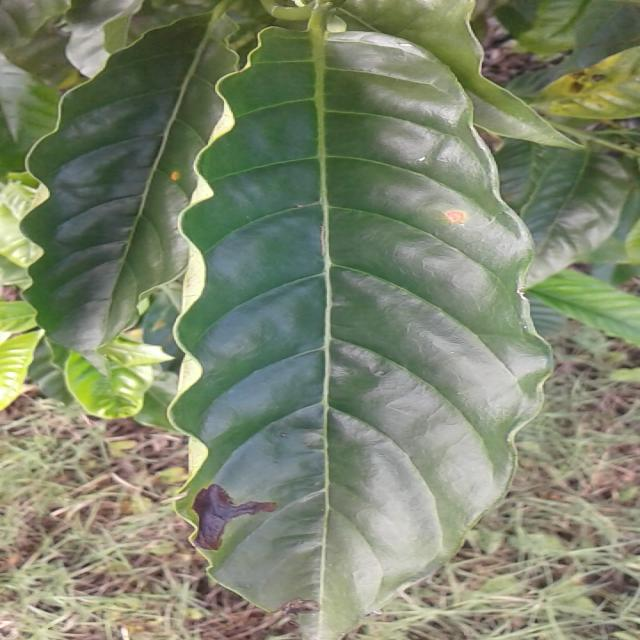Enfermedad-Roya: (168, 26, 554, 640)
